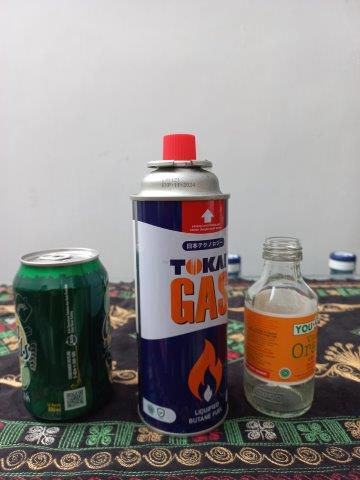botolkaca: (244, 237, 318, 418)
kaleng: (131, 135, 228, 435), (10, 247, 108, 424)
